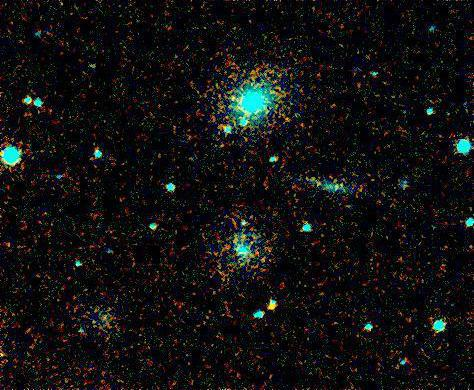star: (256, 291, 286, 321)
